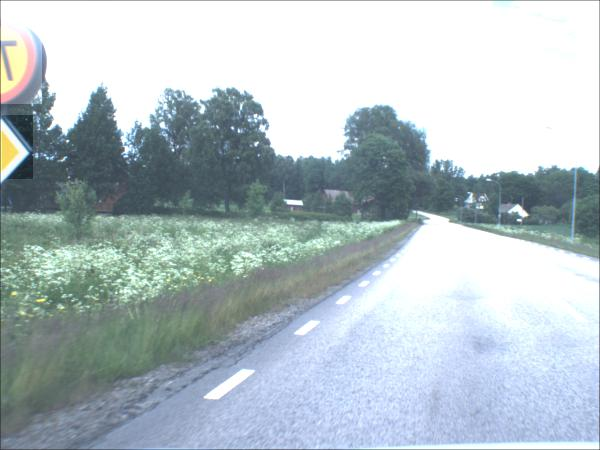70_SIGN: (1, 19, 43, 106)
PRIORITY_ROAD: (2, 116, 34, 181)
